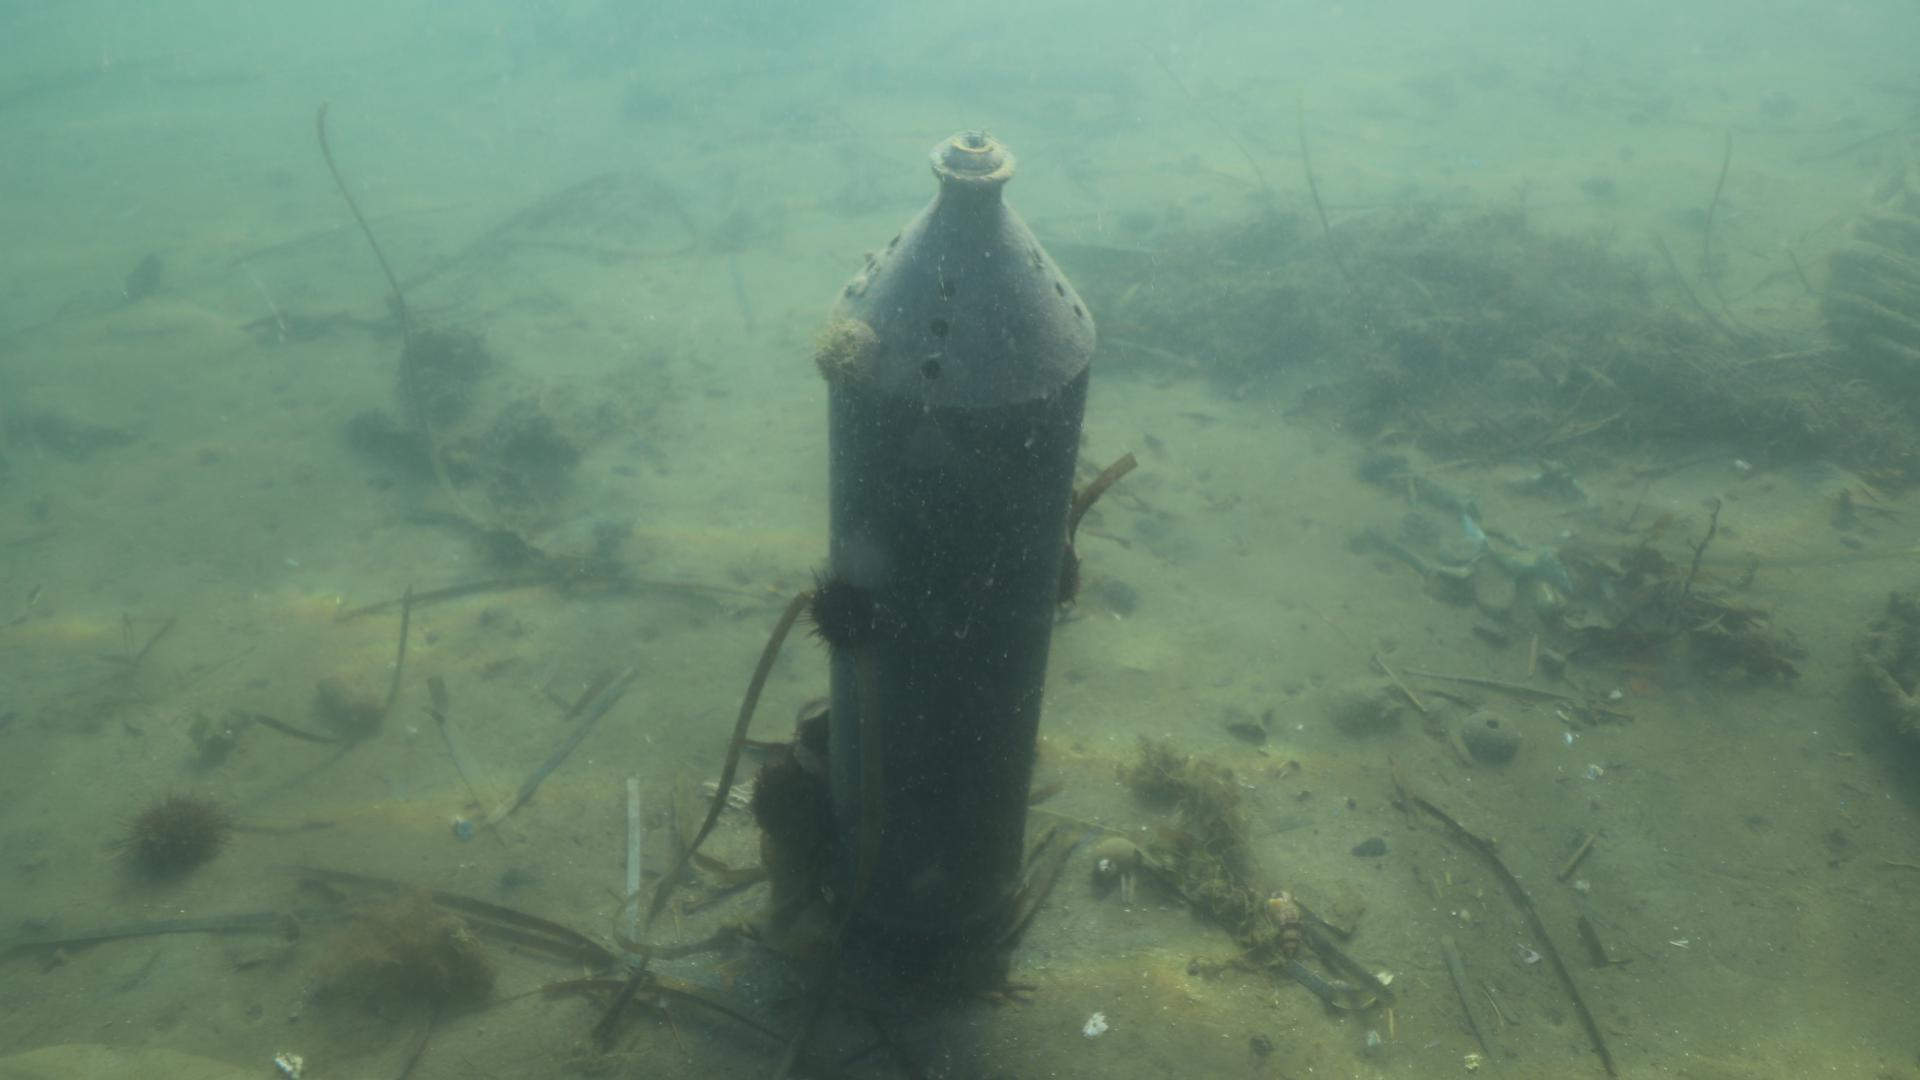eel fish trap: (816, 131, 1095, 1010)
